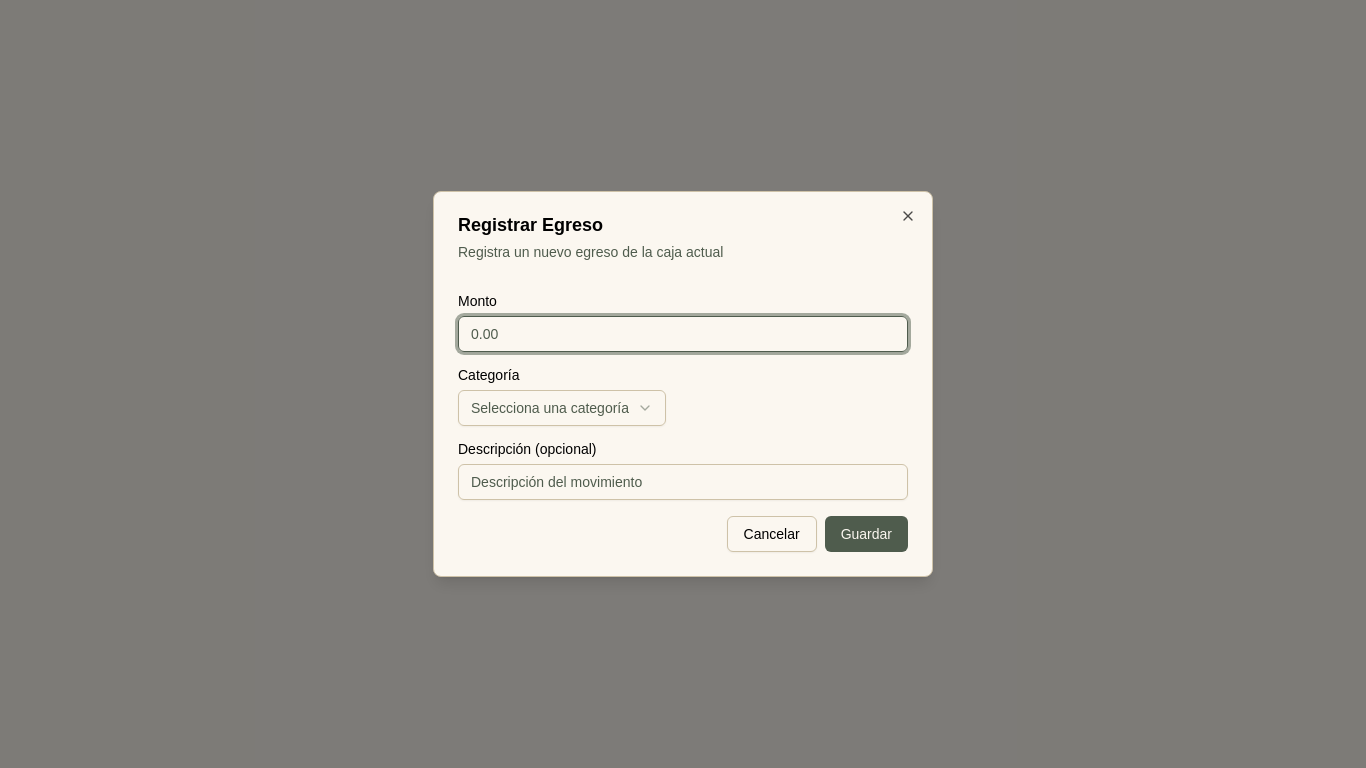
Test: TransactionDialog › shows EXPENSES_CATEGORIES options for expense
Step 1. Click the dropdown "Selecciona una categoría" → {"x": 562, "y": 408}, box [458, 390, 666, 426]
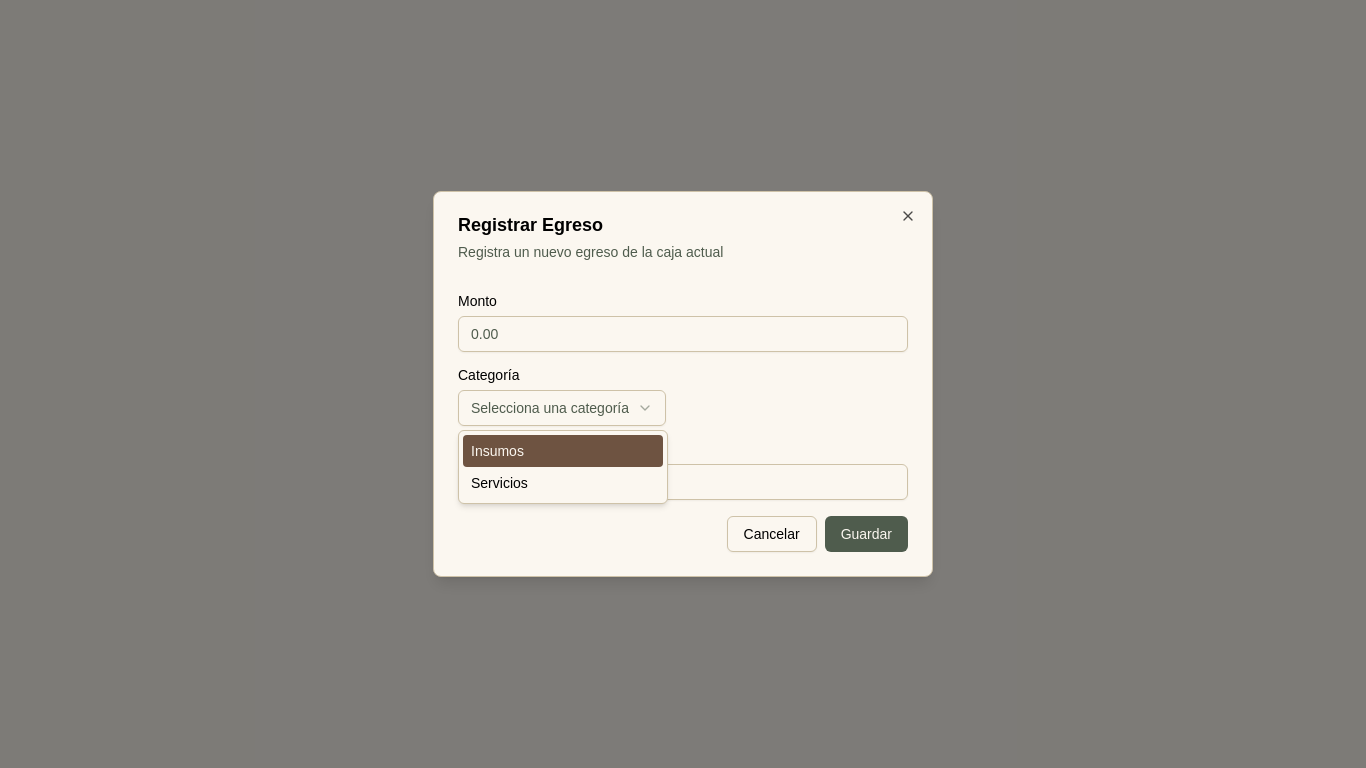
Expected: the option "Insumos" is shown, [463, 435, 663, 467]
Expected: the option "Servicios" is shown, [471, 475, 528, 491]
